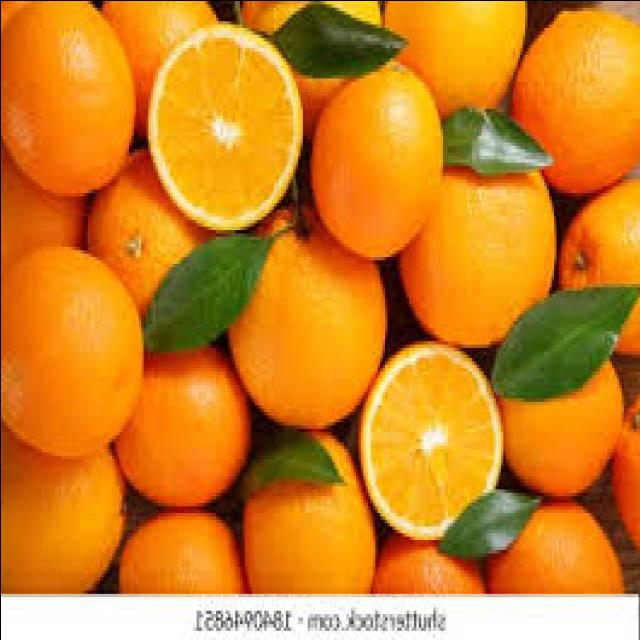orange: (298, 64, 446, 262)
